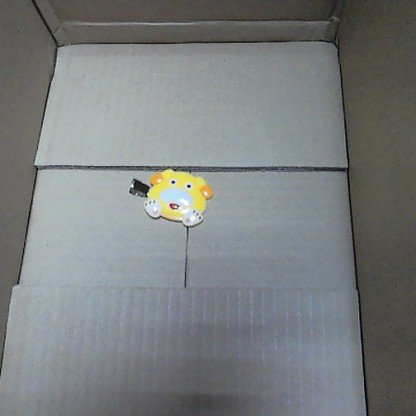dogclip: (128, 163, 214, 228)
